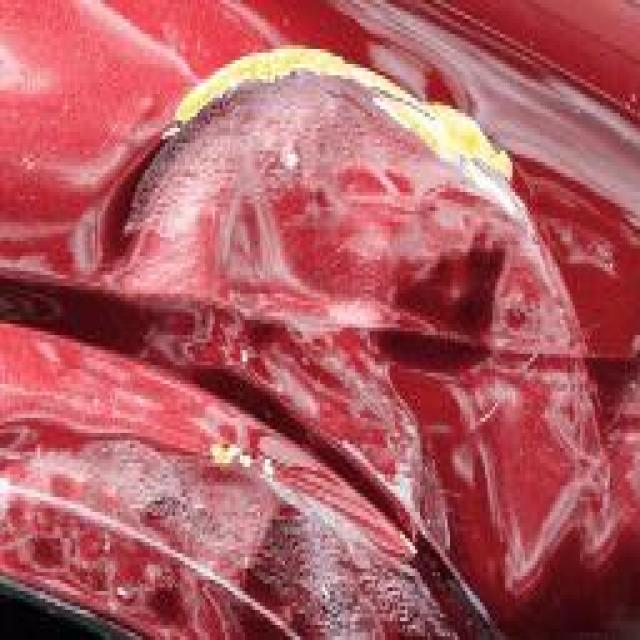Fender: (8, 0, 635, 640)
